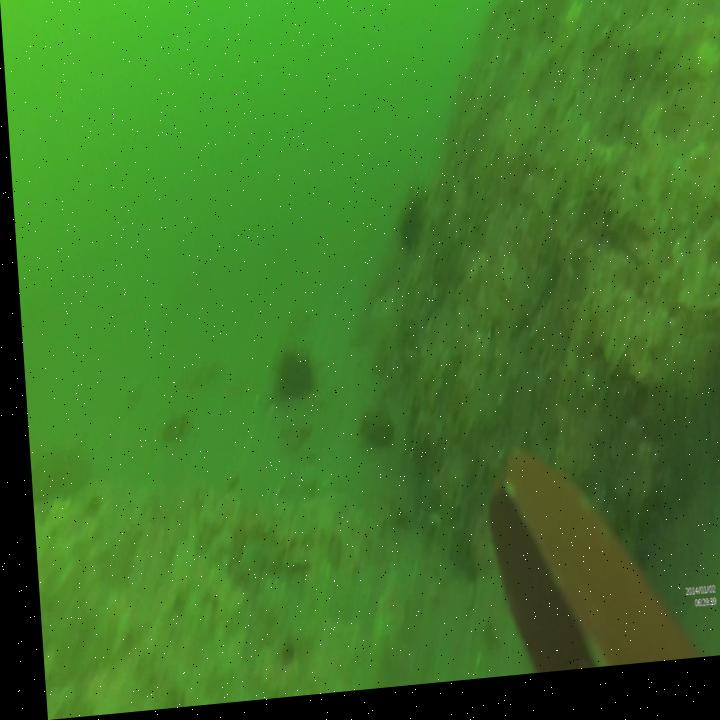echinus: (394, 189, 430, 262), (267, 347, 311, 405), (354, 412, 388, 459)
holothurian: (25, 438, 88, 505), (154, 413, 191, 452)
